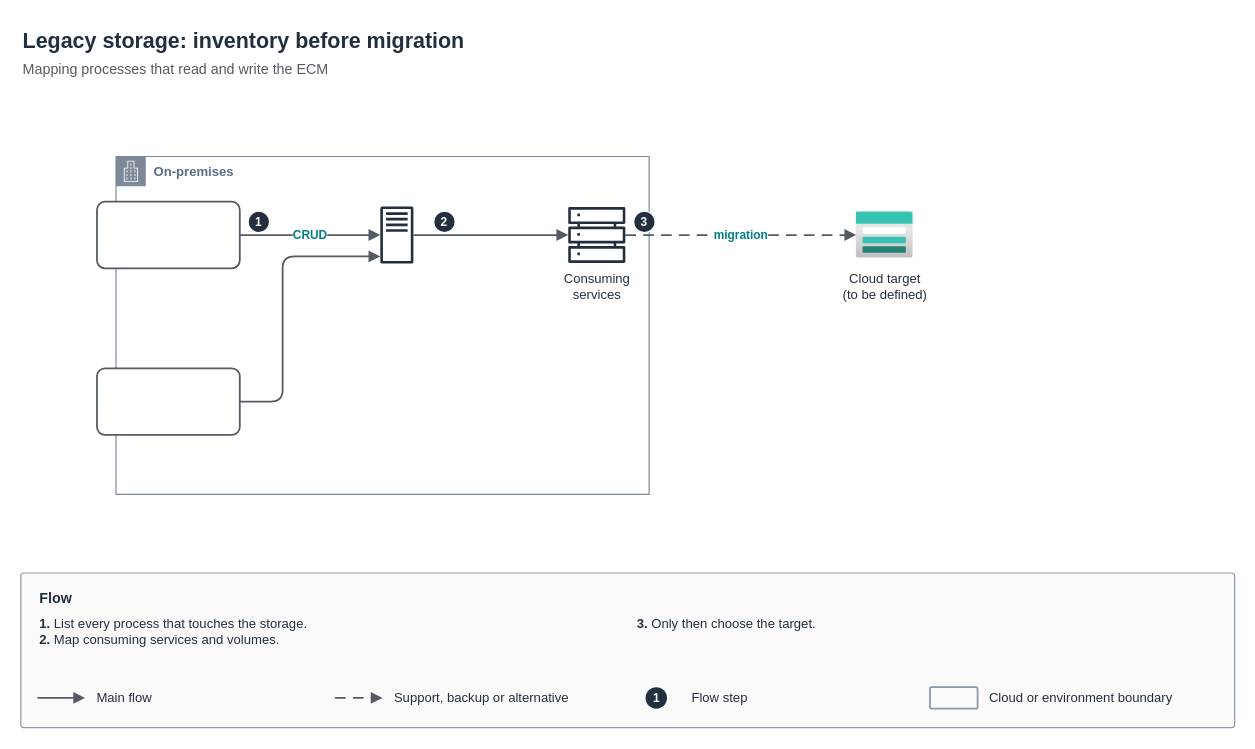
Some shapes in this 1255 by 749 pixel diagram are drawn without their labels. The shapes that lost their labels are listed below. From the top down, each one's centre as x and y in pixels, then its label:
At [168,234]: "Processo A CRUD".
At [396,234]: "Legacy ECM storage".
At [168,401]: "Process B verification".
